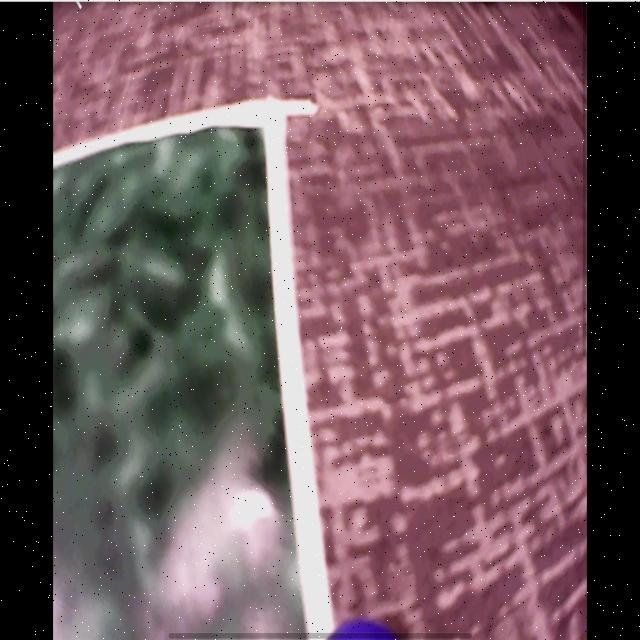ball: (328, 621, 401, 640)
